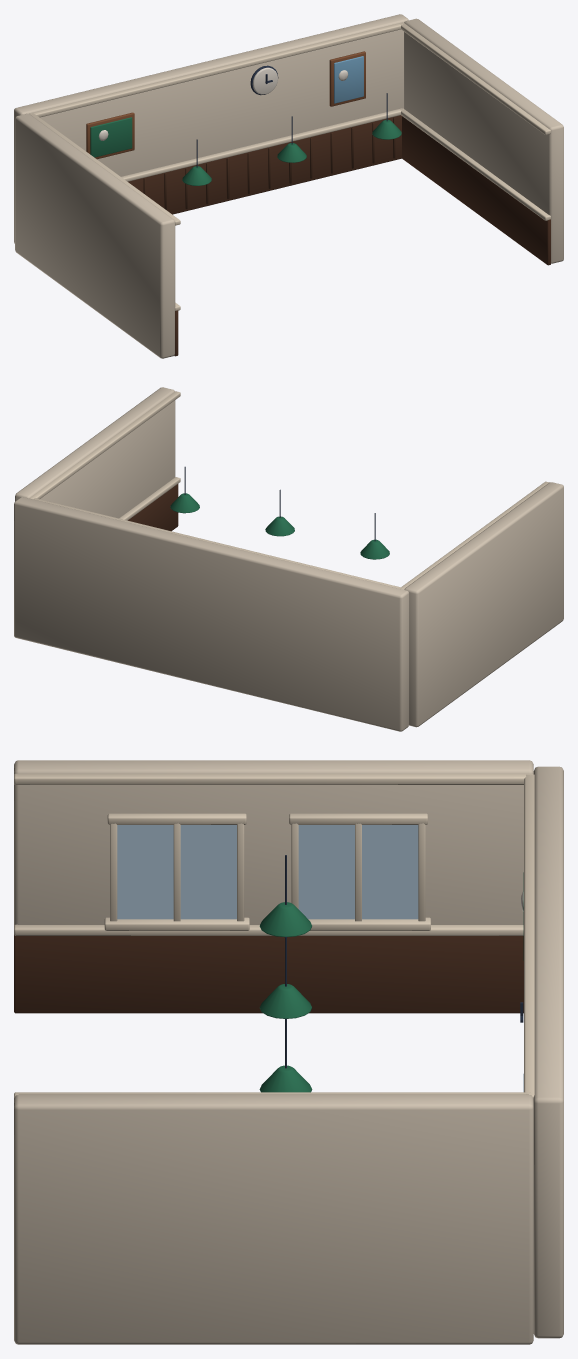
Rendered from room_cafe.glb.
The picture shows the model from 3 angles, top to bottom: view 1: azimuth 30°, elevation 25°; view 2: azimuth 150°, elevation 25°; view 3: azimuth 270°, elevation 25°; orthographic projection. The views are drawn at different scales.
Visible parts, largest first — view 1: room_cafe; view 2: room_cafe; view 3: room_cafe, Glass_room_cafe.
Part boxes in pixels (<box>): room_cafe: <box>14,14,563,358</box>; room_cafe: <box>14,387,563,731</box>; room_cafe: <box>14,760,563,1344</box>; Glass_room_cafe: <box>117,825,418,919</box>.
Size of the model in its own units: 13.6 by 4.4 by 9.1.
